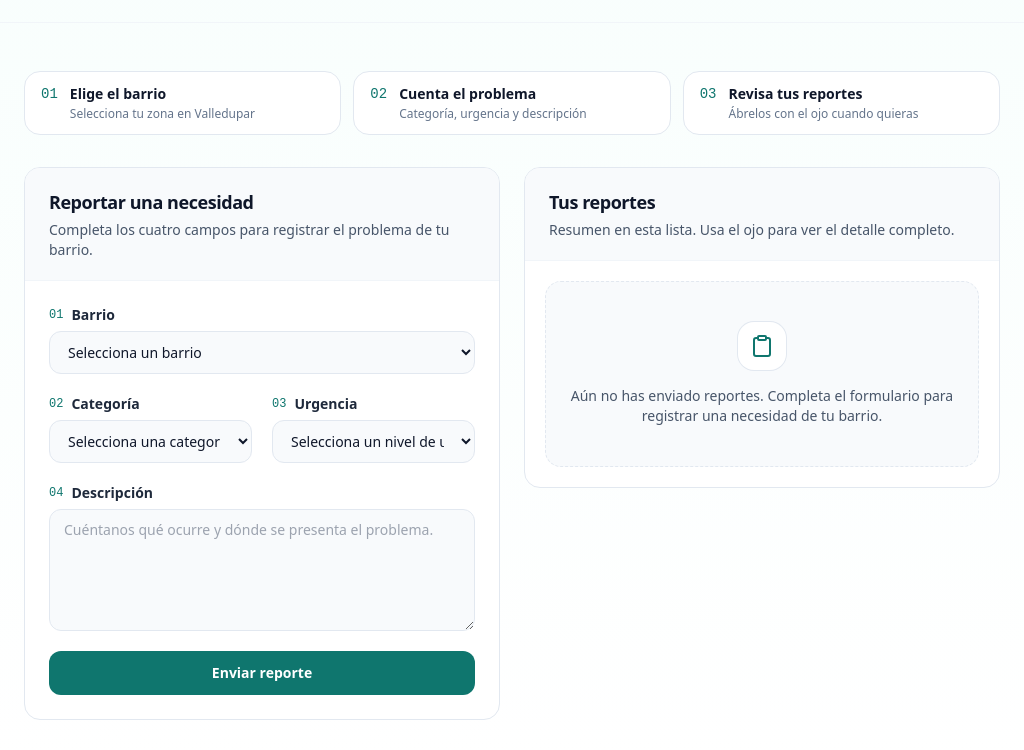
Test: EncuestaPage › shows a field error for each empty required input on submit
The width and height of the screenshot is (1024, 750).
(page scrolled)
Click the button "Enviar reporte" at (262, 673), box [49, 651, 475, 695]
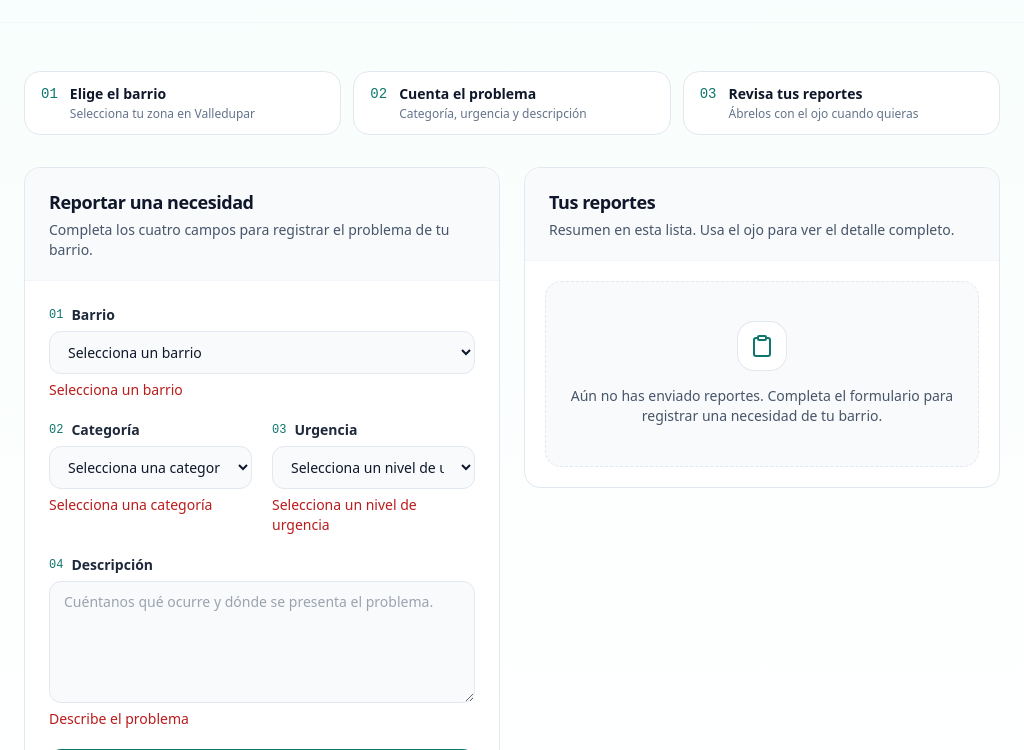
Expected: the text "Selecciona un barrio" is shown, [49, 380, 183, 399]
Expected: the text "Selecciona una categoría" is shown, [49, 495, 212, 514]
Expected: the text "Selecciona un nivel de urgencia" is shown, [272, 495, 417, 534]
